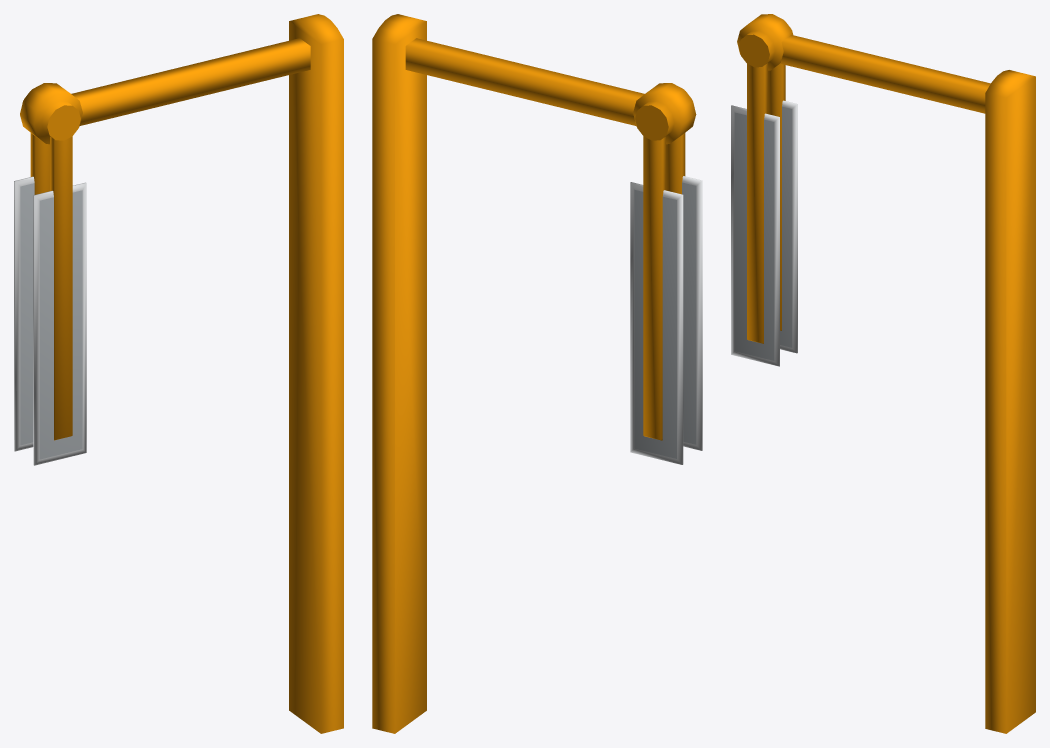
File: trap_10.fbx
The picture shows the model from 3 angles, left to right: view 1: azimuth 30°, elevation 25°; view 2: azimuth 150°, elevation 25°; view 3: azimuth 330°, elevation 25°; orthographic projection. The views are drawn at different scales.
Parts seen in each view (by area): view 1: trap_010, trap_010_asset; view 2: trap_010, trap_010_asset; view 3: trap_010, trap_010_asset.
Boxes of the visible parts, <box> form: trap_010: <box>20,14,343,733</box>; trap_010_asset: <box>14,133,86,465</box>; trap_010: <box>372,14,696,733</box>; trap_010_asset: <box>630,133,702,464</box>; trap_010: <box>737,14,1035,733</box>; trap_010_asset: <box>731,63,797,366</box>.
Bounding box in the file's own units: 1085 × 2384 × 198.
1 material, 1 textured.
